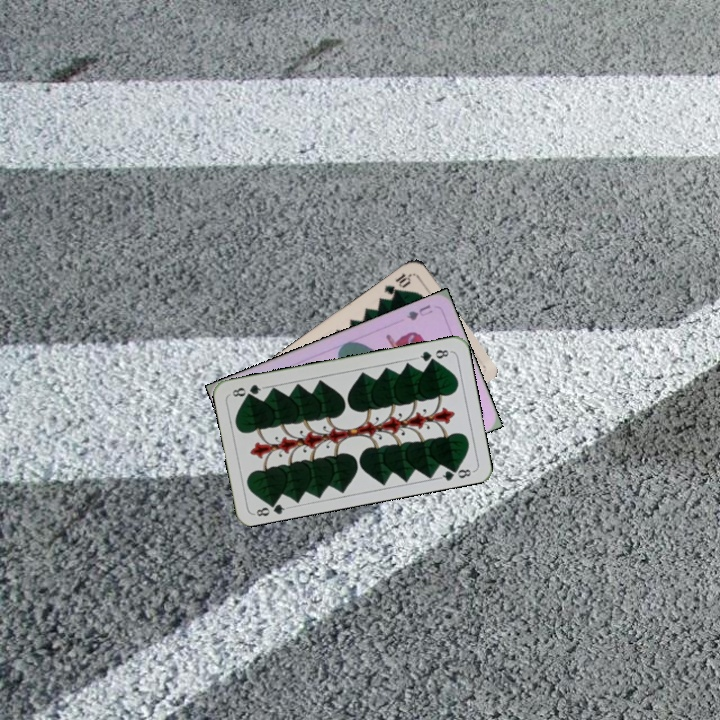G10: (380, 269, 414, 297)
G8: (251, 496, 291, 519), (413, 345, 453, 364)
GU: (402, 301, 435, 323)
